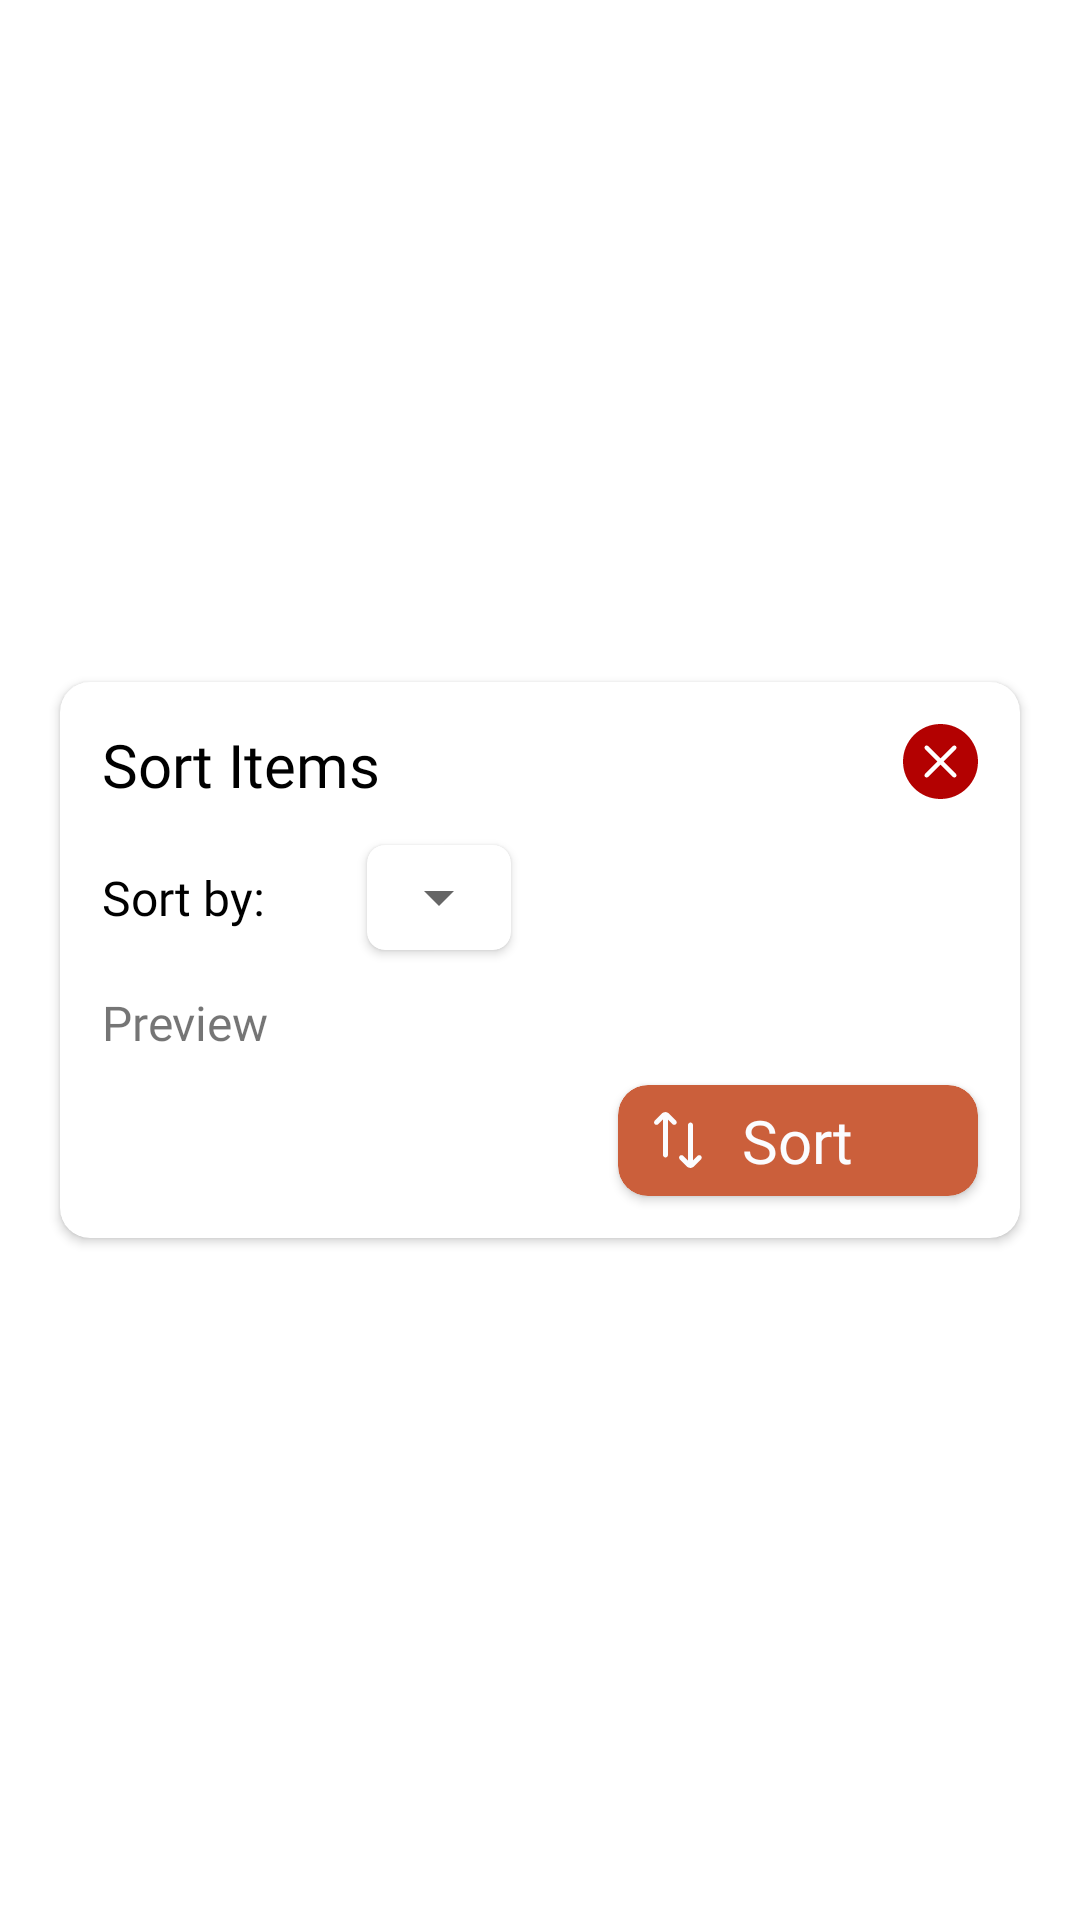

Locate icon controls on the screen. Image size 1080 x 1920, boxes as (x1, y1, x2, y2).
close round: (903, 724, 978, 799)
